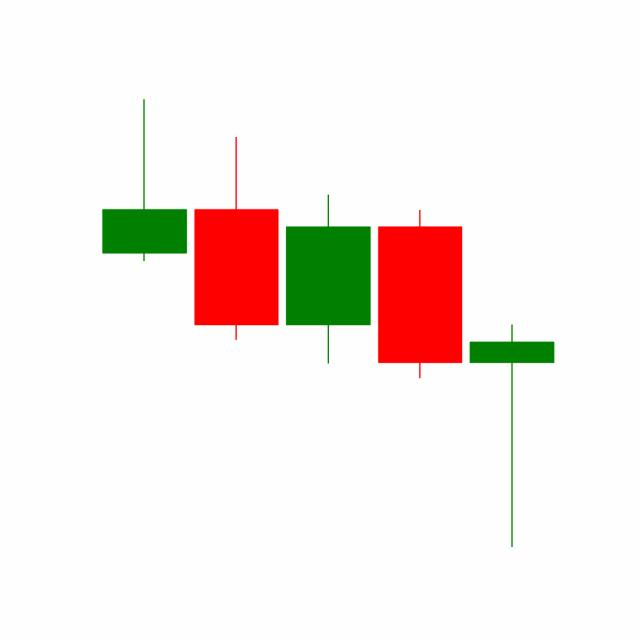Hammer: (464, 322, 558, 550)
